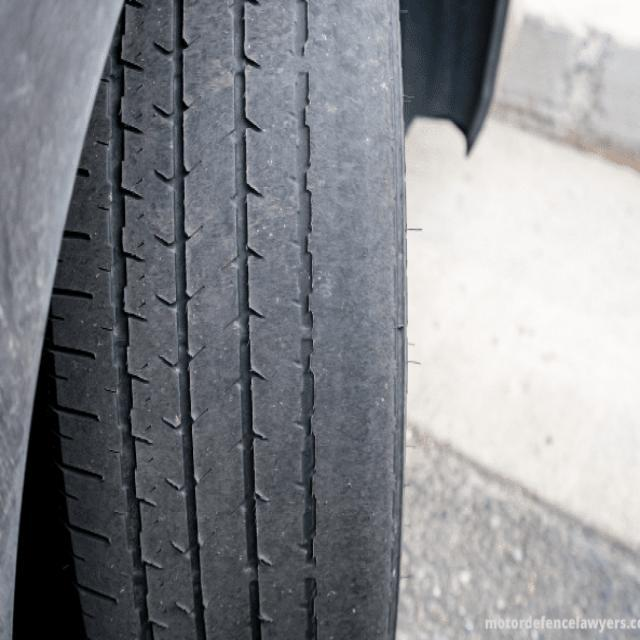Flat spots: (44, 0, 408, 639)
